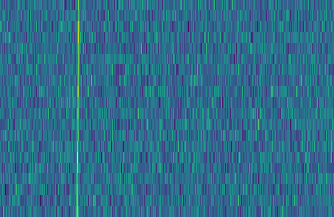signal: (69, 0, 80, 217)
